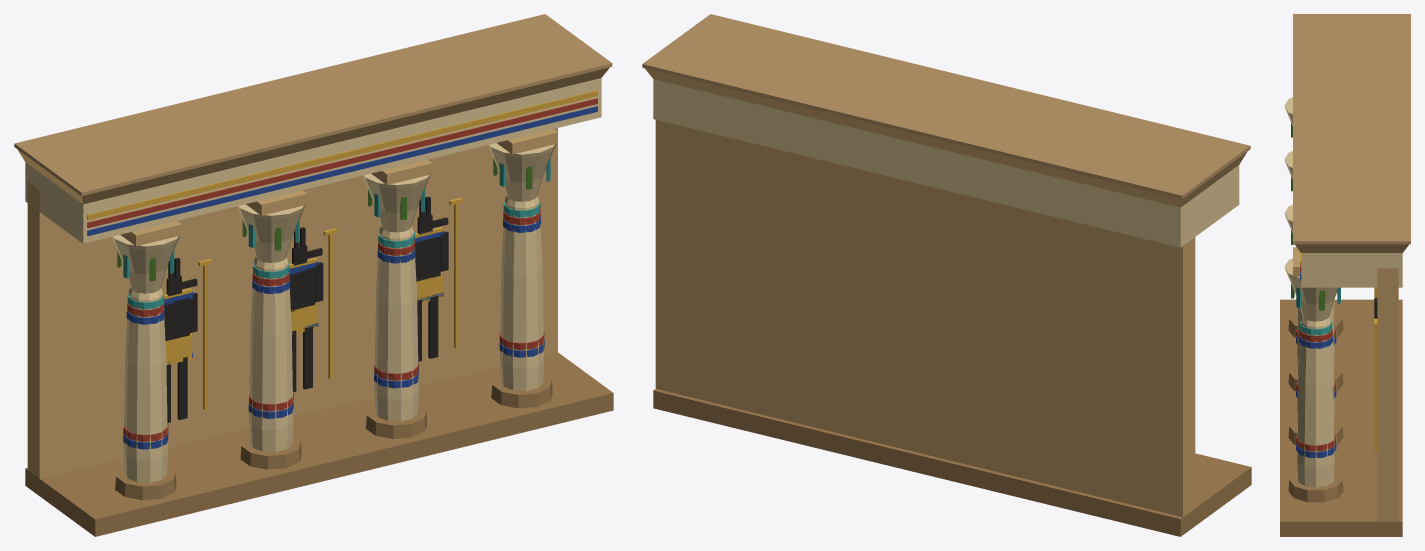
Rendered from desert_portico.glb.
3 renders of one model, left to right at view 1: azimuth 30°, elevation 25°; view 2: azimuth 150°, elevation 25°; view 3: azimuth 270°, elevation 25°, orthographic. The views are drawn at different scales.
Parts seen in each view (by area): view 1: desert_portico; view 2: desert_portico; view 3: desert_portico.
Part boxes in pixels (left/top/right/bottom): desert_portico: left=14, top=14, right=613, bottom=536; desert_portico: left=642, top=14, right=1251, bottom=536; desert_portico: left=1280, top=14, right=1410, bottom=536.
Size of the model in its own units: 12.7 by 7.78 by 3.09.
